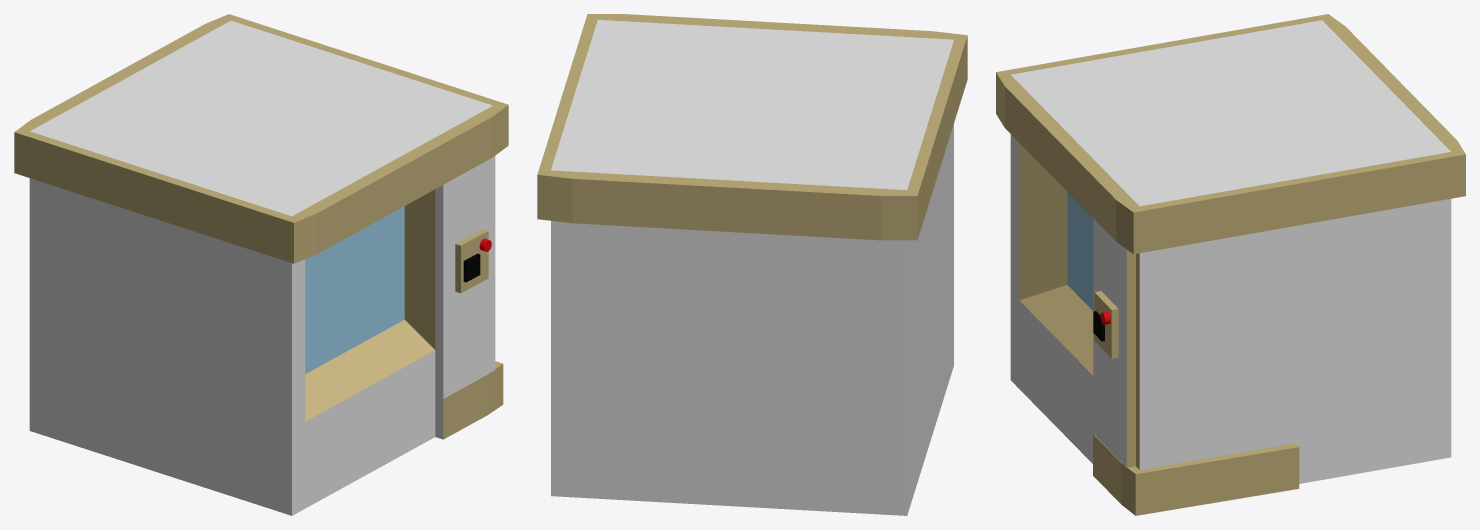
File: GUARITA COM TEXTURE.fbx
The picture shows the model from 3 angles, left to right: view 1: azimuth 30°, elevation 25°; view 2: azimuth 150°, elevation 25°; view 3: azimuth 270°, elevation 25°; orthographic projection. The views are drawn at different scales.
Visible parts, largest first — view 1: Guarita; view 2: Guarita; view 3: Guarita.
Boxes of the visible parts, <box> form: Guarita: <box>14,14,508,515</box>; Guarita: <box>537,14,967,515</box>; Guarita: <box>996,14,1465,515</box>.
Bounding box in the file's own units: 119 × 85.68 × 119.
Materials: 1 (1 with a texture image).
